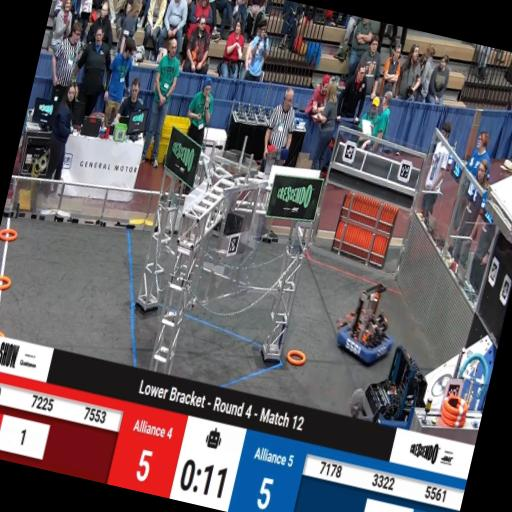robot: (331, 276, 406, 370), (358, 346, 435, 432)
